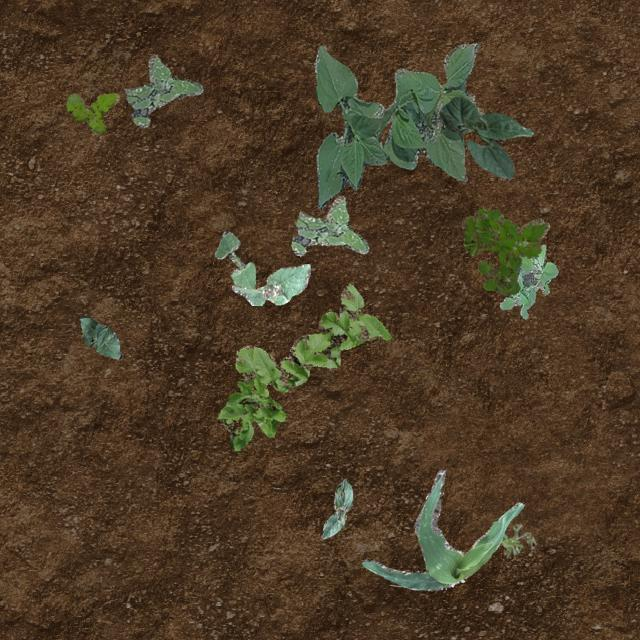crop: (314, 42, 482, 208), (360, 470, 522, 590), (438, 95, 532, 178), (230, 262, 310, 304), (213, 230, 254, 288), (321, 478, 352, 538), (77, 316, 121, 358)
weed: (217, 282, 390, 450), (461, 206, 548, 294), (122, 52, 202, 126), (290, 194, 368, 254), (498, 244, 558, 318), (65, 91, 118, 132), (498, 522, 534, 556)
